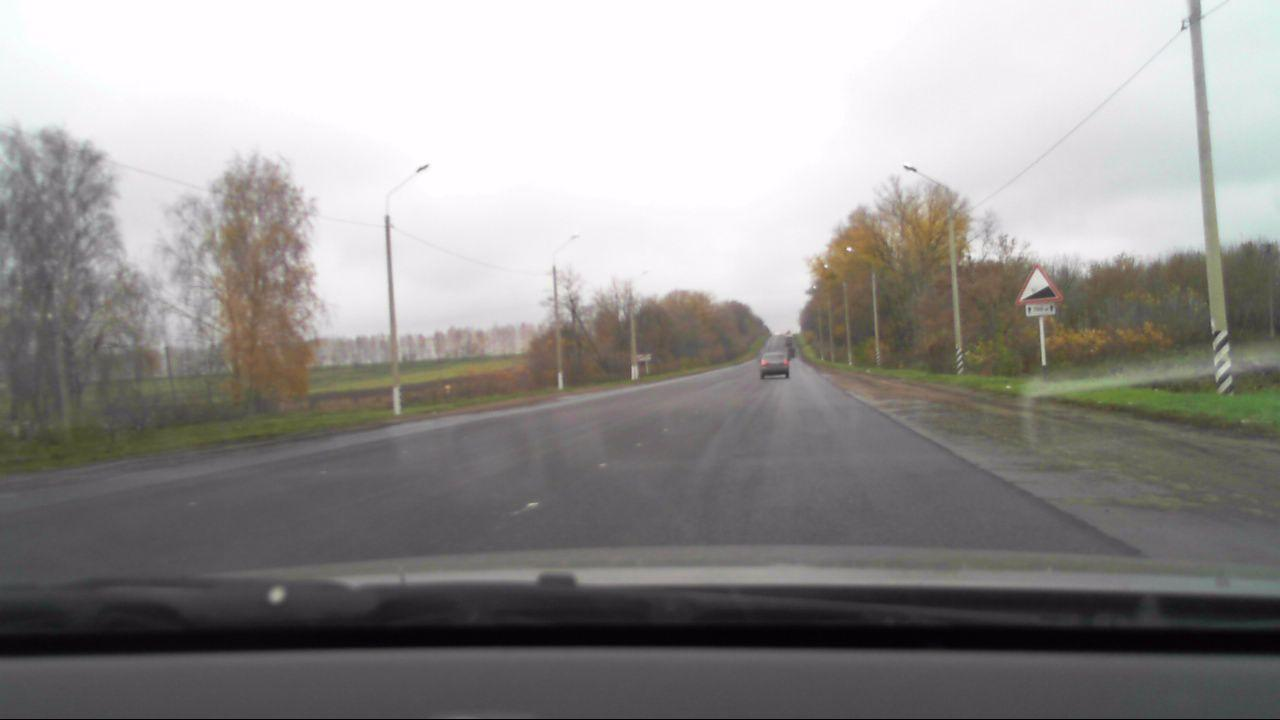1_14: (1018, 263, 1063, 304)
8_2_1: (1026, 303, 1058, 318)
